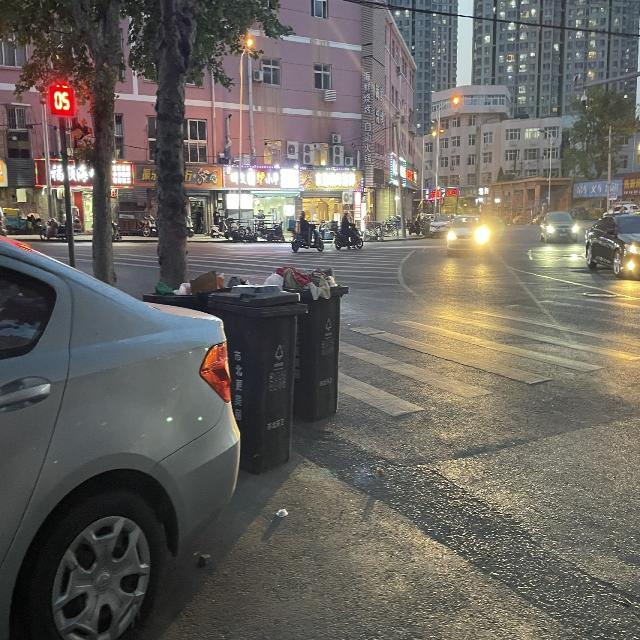garbage_bin: (208, 283, 306, 473)
overflow: (264, 266, 350, 422)
